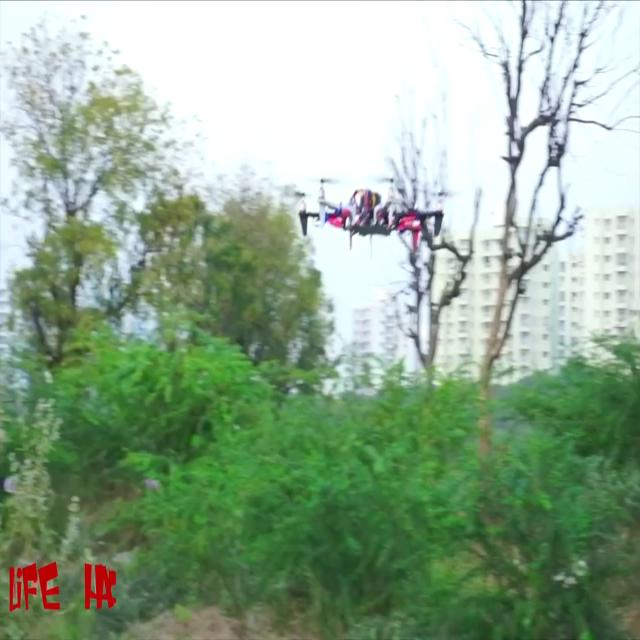drone: (267, 141, 453, 284)
